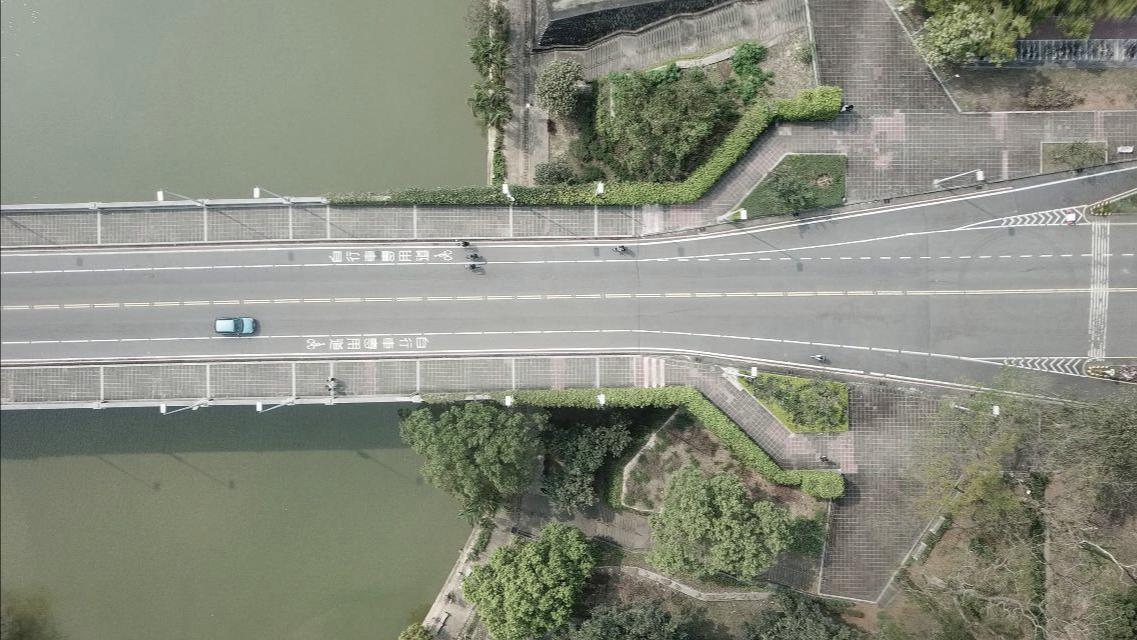vehicle: (214, 317, 255, 335)
